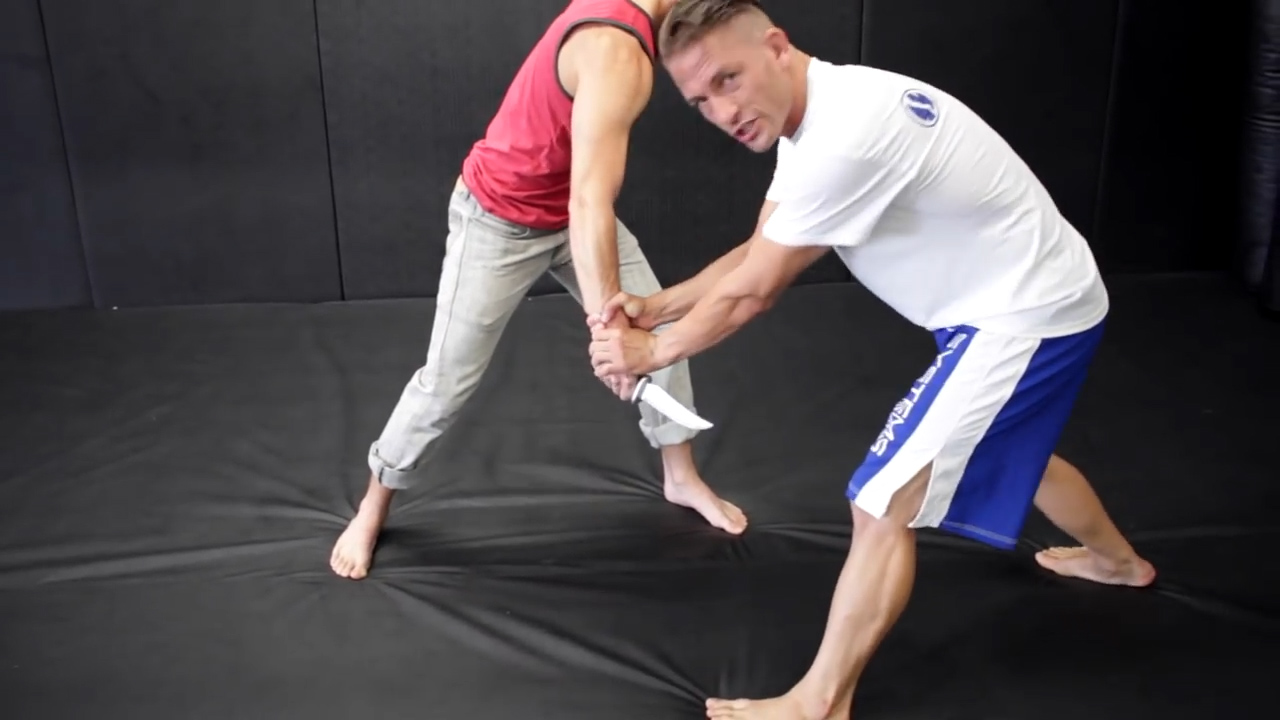knife: (592, 363, 724, 439)
